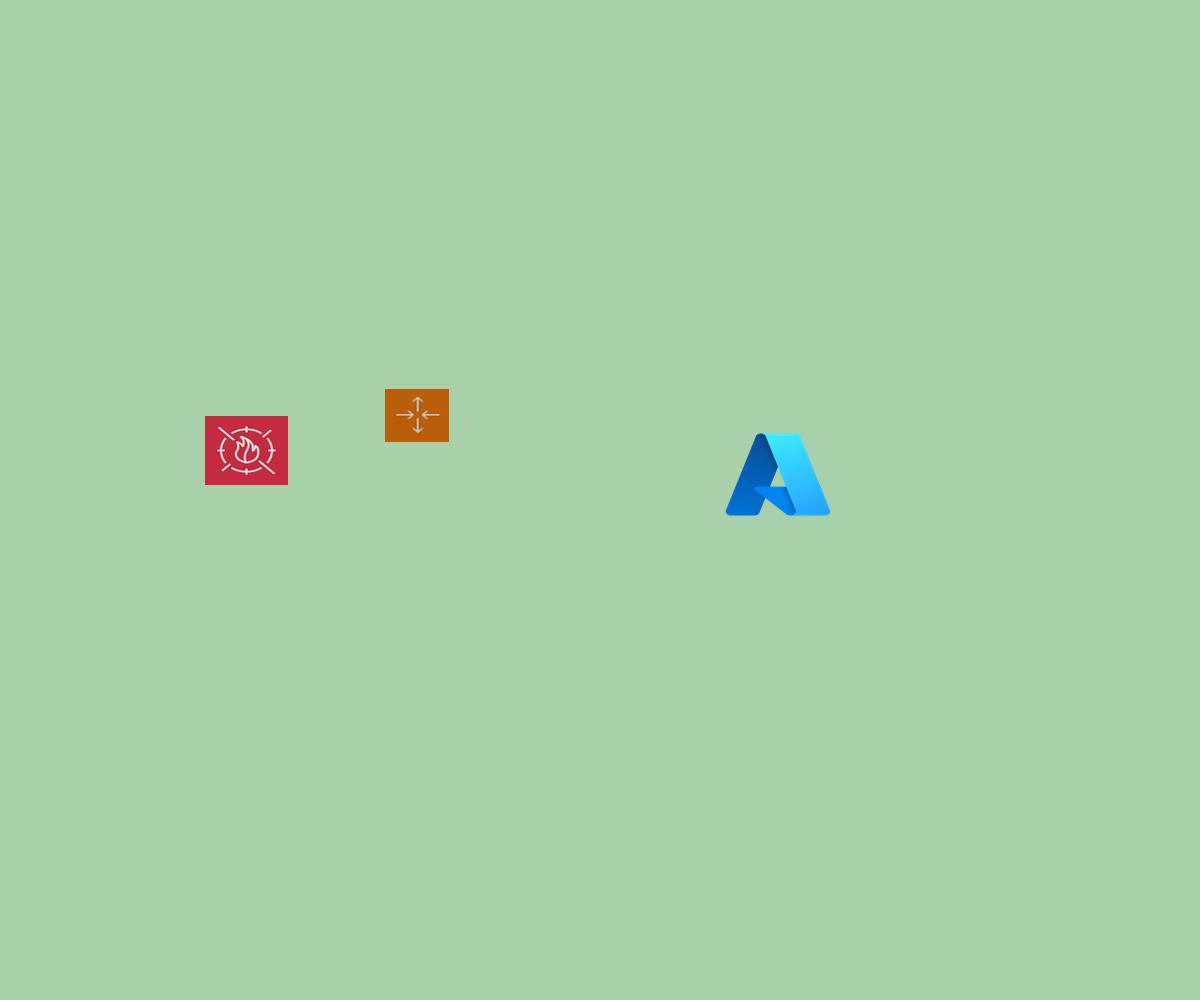AWS-Scaling-group: (385, 389, 449, 442)
AWS-WAF: (205, 416, 288, 485)
Azure_services: (721, 427, 835, 522)
